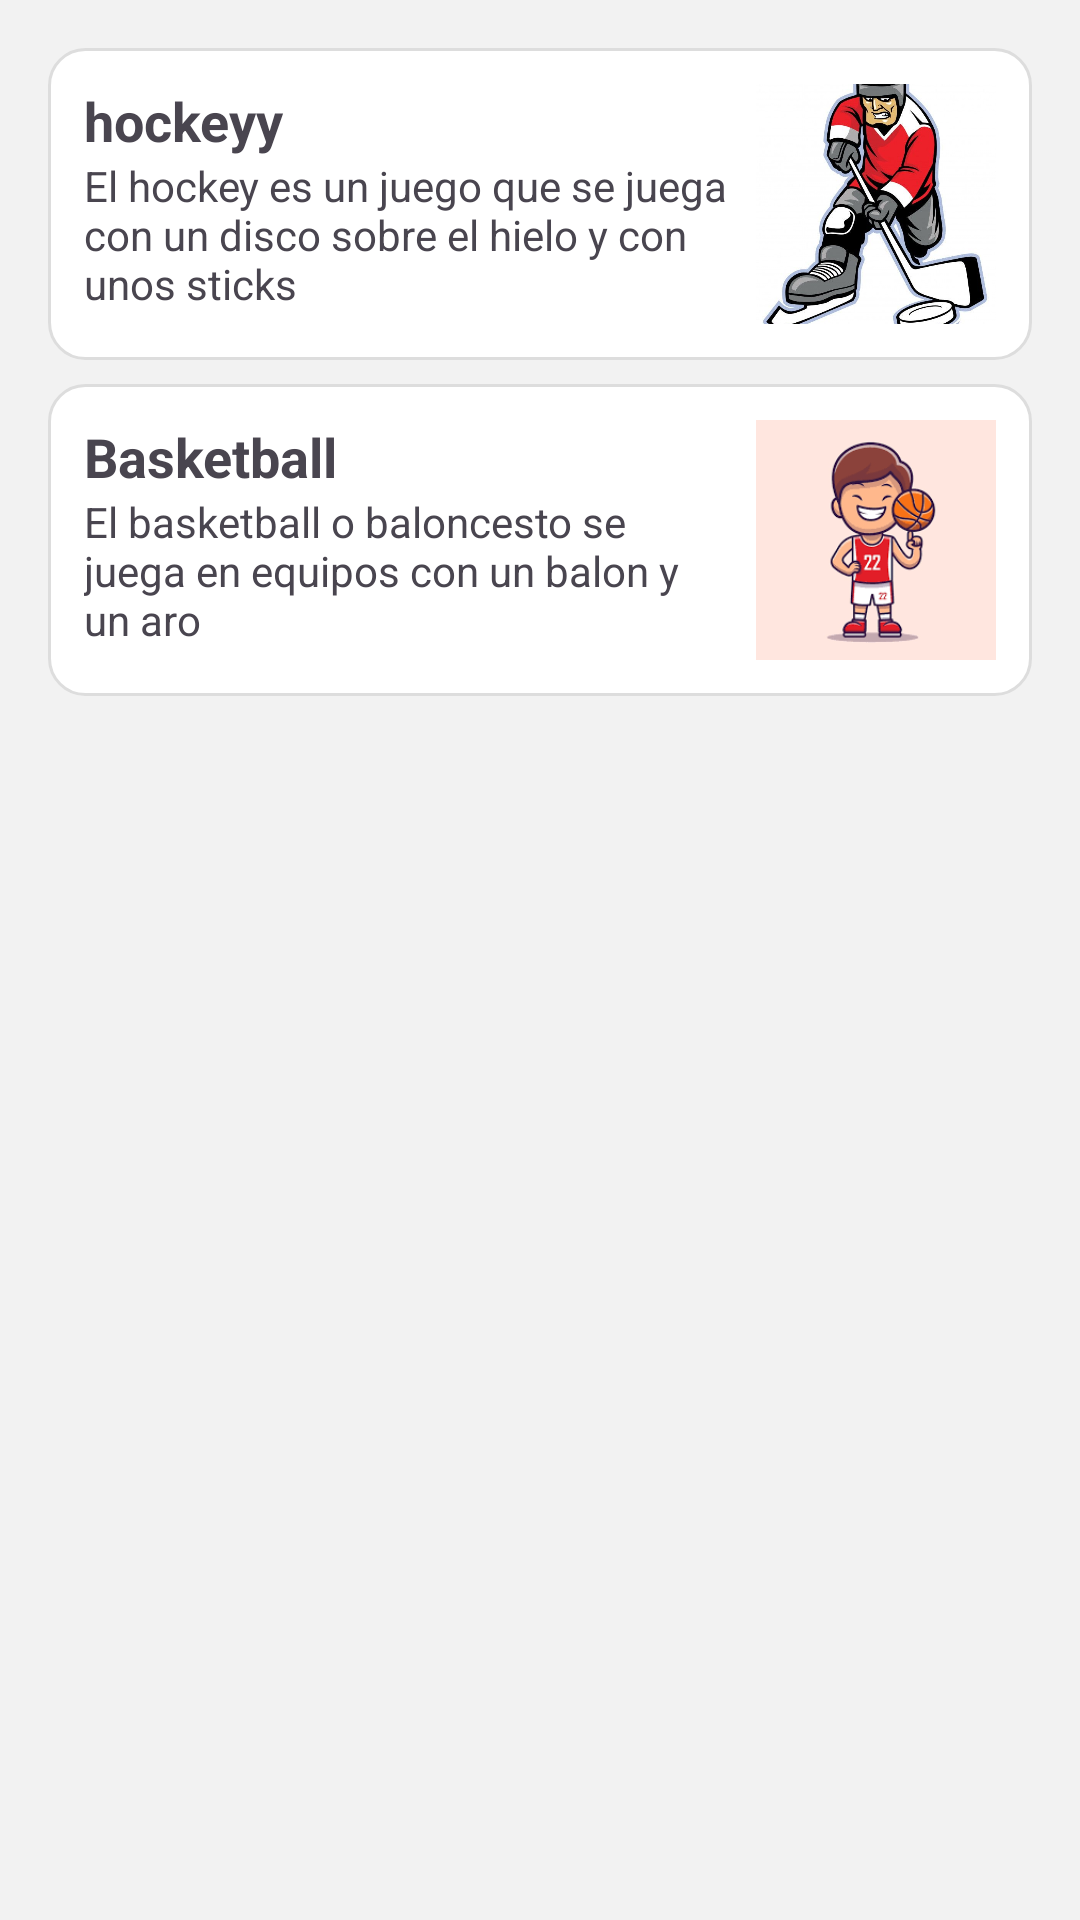

Screen size 1080w x 1920h. Icon name, then its center in pixels as (x,y):
hockeyy: (875,204)
